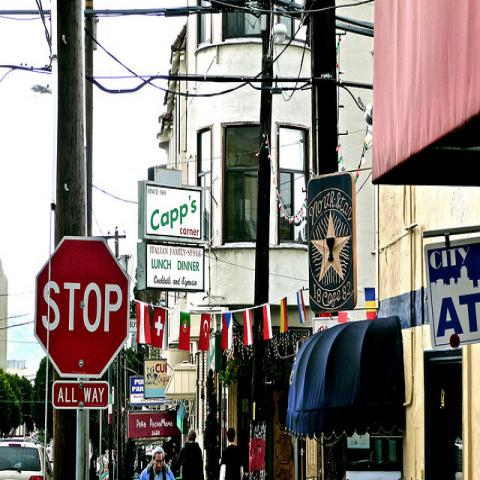car: (1, 440, 52, 475)
